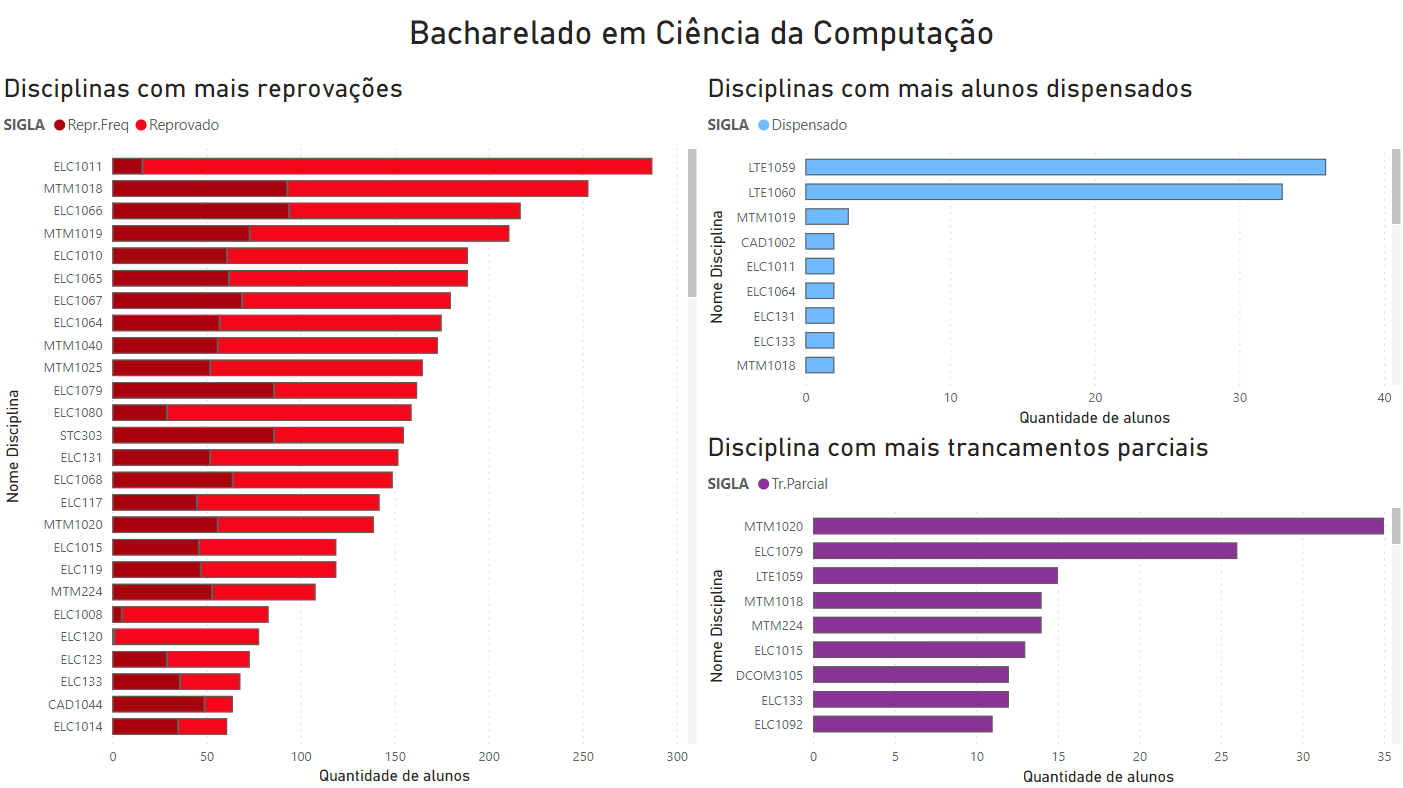

The dashboard page shown, as its layout file describes it:
{"tool":"powerbi","page":{"name":"Visao_geral2","canvas":[1280,720],"ordinal":2},"visuals":[{"type":"barChart","title":"Disciplinas com mais reprovações","fields":{"Category":["Dados.COD_DISCIPLINA"],"Y":["Sum(Dados.TOTAL_ALUNOS)"],"Series":["Dados.SIGLA"]},"box":[0,67.4,640,652.4],"z":0},{"type":"barChart","title":"Disciplinas com mais alunos dispensados","fields":{"Category":["Dados.COD_DISCIPLINA"],"Y":["Sum(Dados.TOTAL_ALUNOS)"],"Series":["Dados.SIGLA"]},"box":[640,67.4,640,326.2],"z":1000},{"type":"card","fields":{"Values":["Dados.NomeCurso"]},"box":[125,0,1028.3,56.7],"z":2000},{"type":"barChart","title":"Disciplina com mais trancamentos parciais","fields":{"Category":["Dados.COD_DISCIPLINA"],"Y":["Sum(Dados.TOTAL_ALUNOS)"],"Series":["Dados.SIGLA"]},"box":[640,393.6,640,326.2],"z":3000}]}

Visuals, with their boxes in screenshot pixels (x1, y1, x2, y2), scaled from the page's 1280x720 canvas onto the 1403x788 screenshot:
"Disciplinas com mais reprovações" barChart: x1=0 y1=74 x2=702 y2=787
"Disciplinas com mais alunos dispensados" barChart: x1=702 y1=74 x2=1402 y2=431
card - Dados.NomeCurso: x1=137 y1=0 x2=1264 y2=62
"Disciplina com mais trancamentos parciais" barChart: x1=702 y1=431 x2=1402 y2=787
